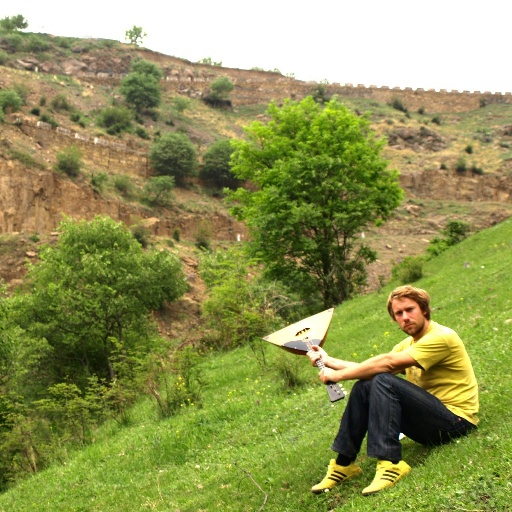hand: (304, 344, 328, 367), (315, 368, 341, 384)
